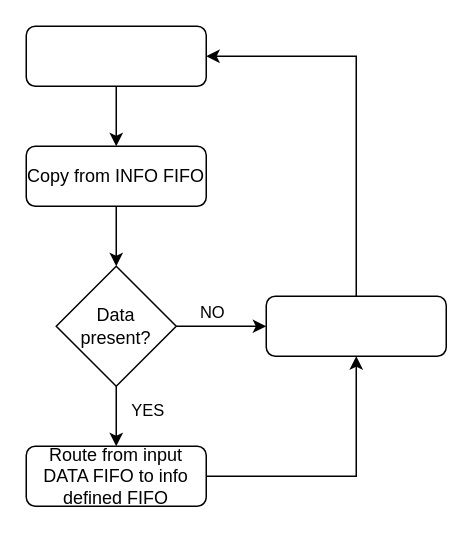
Image size: 473x534. Some labels were removed from this diagram. Here are the shapes that lost their labels. From the top down, the centre of each, then its label:
point (115, 55): Wait for data in INFO FIFO
point (355, 325): Route INFO FIFO to defined FIFO
